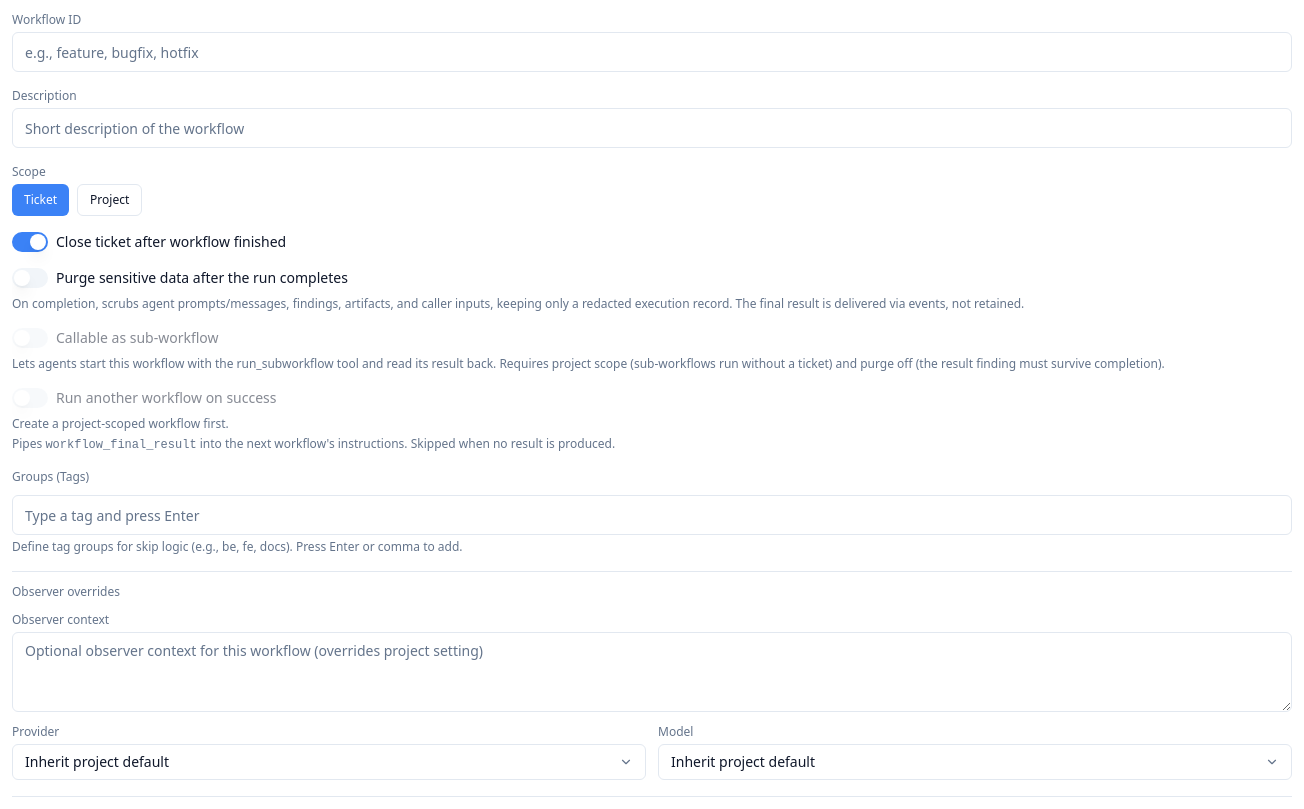
Test: WorkflowDefForm - groups chip input › adding chips › adds multiple distinct chips
Type "be" into the field with placeholder "Type a tag and press Enter". click: (652, 515)
box: 12,495 -> 1292,535
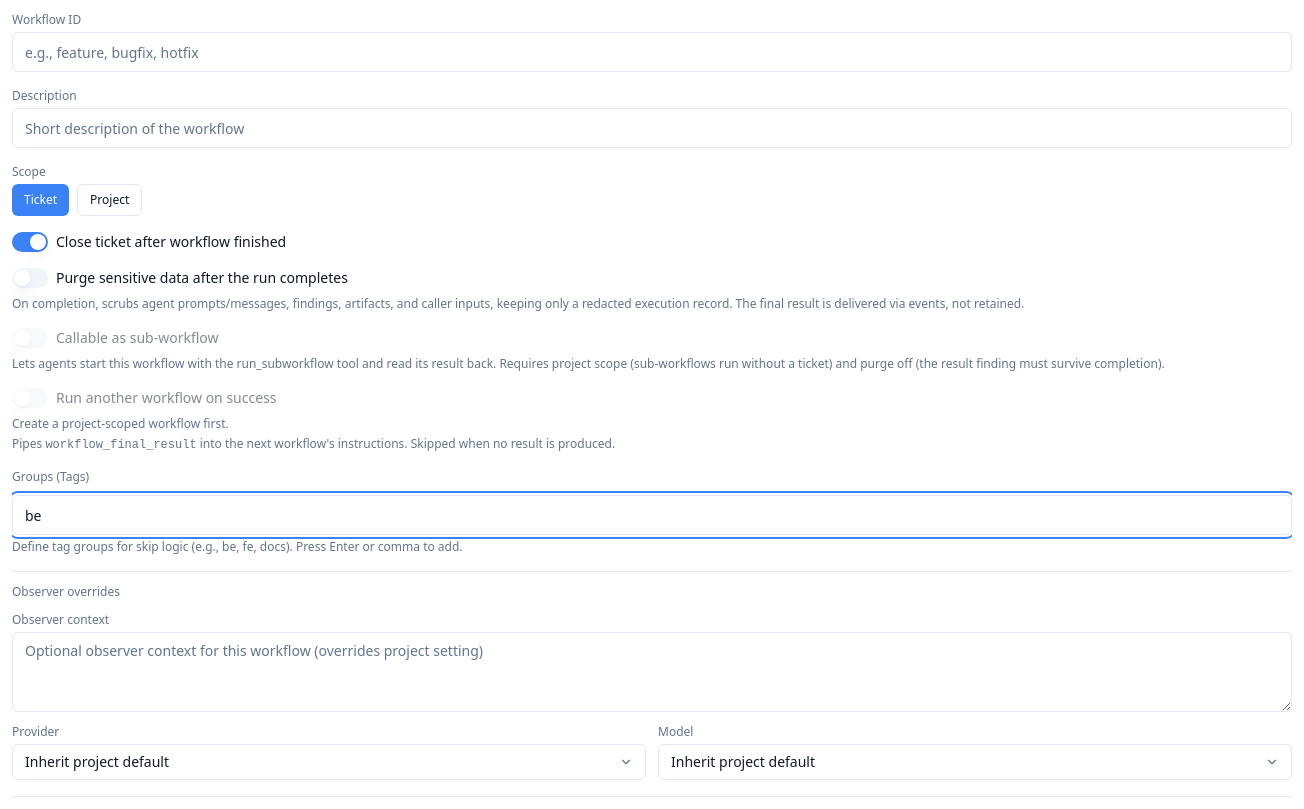
Press Enter
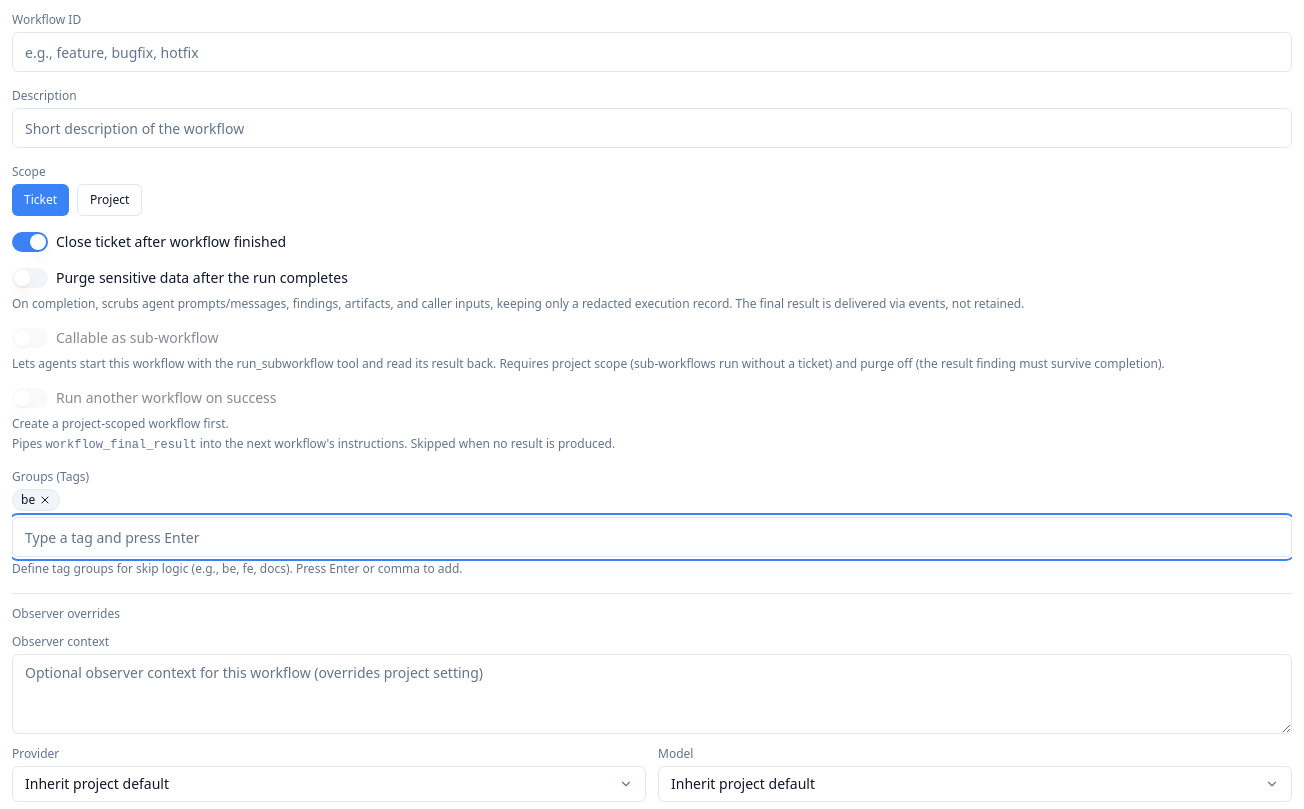
Type "fe" into the field with placeholder "Type a tag and press Enter". click: (652, 537)
box: 12,517 -> 1292,557
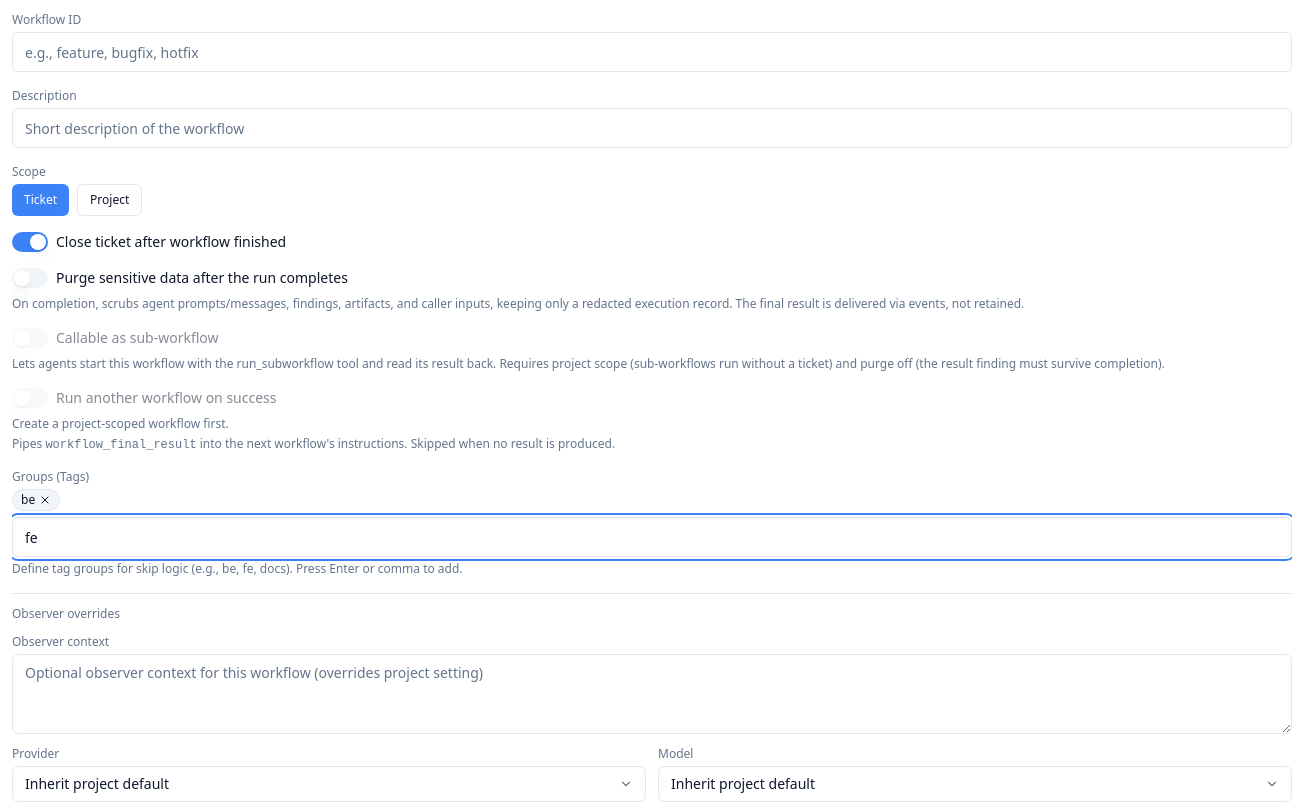
Press Enter
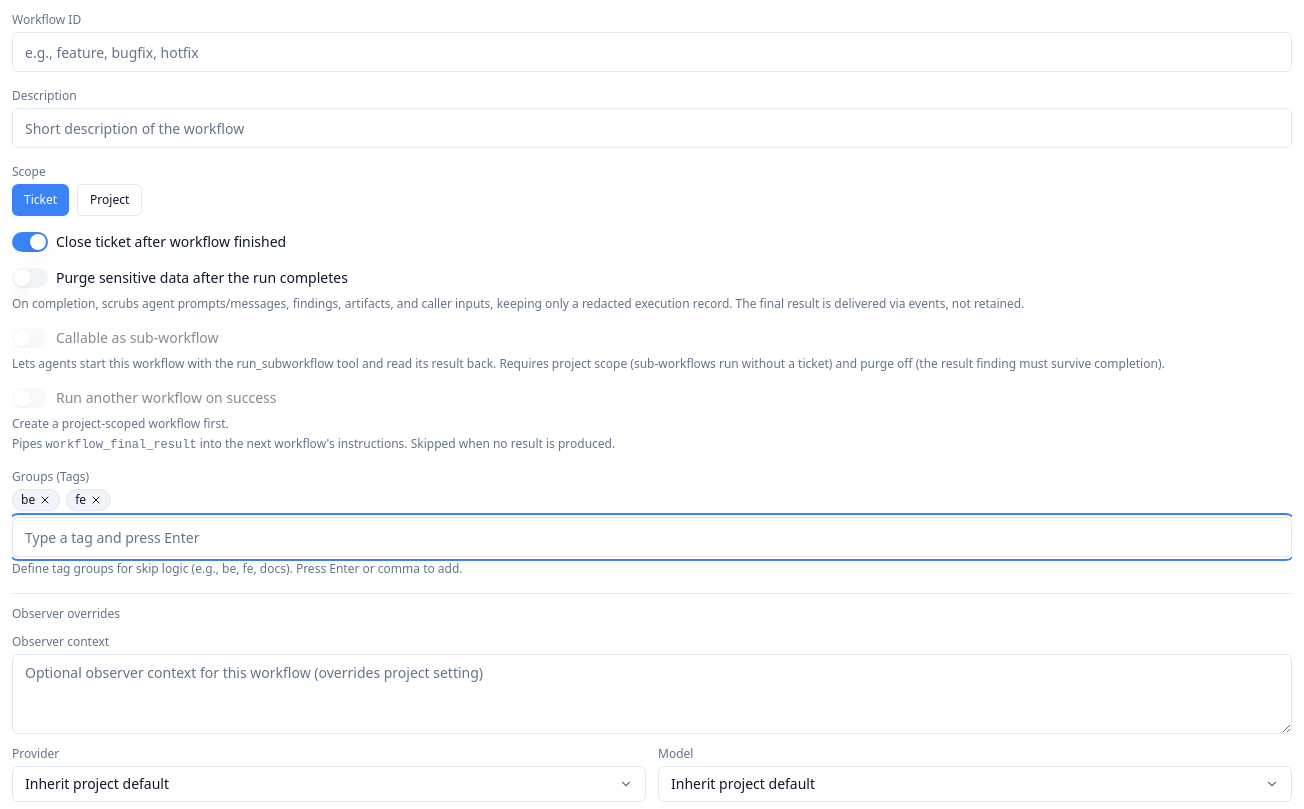
Result: the text "be" is shown at 12,489 -> 60,511
Result: the text "fe" is shown at 66,489 -> 111,511
